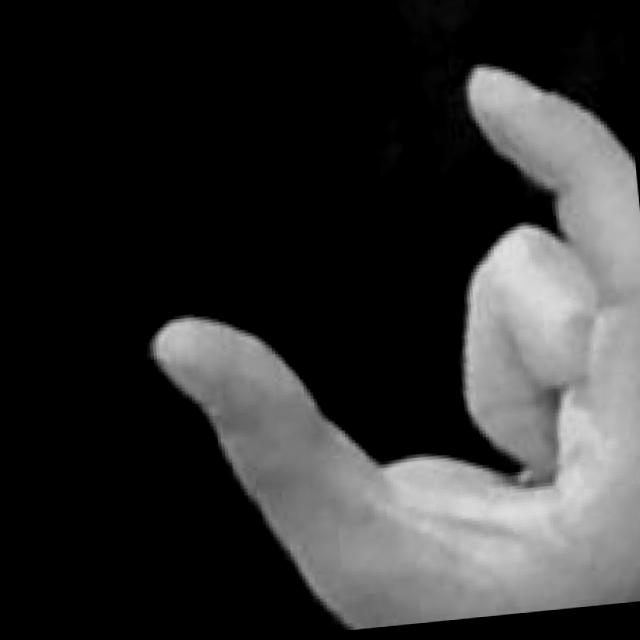U: (121, 41, 640, 636)
